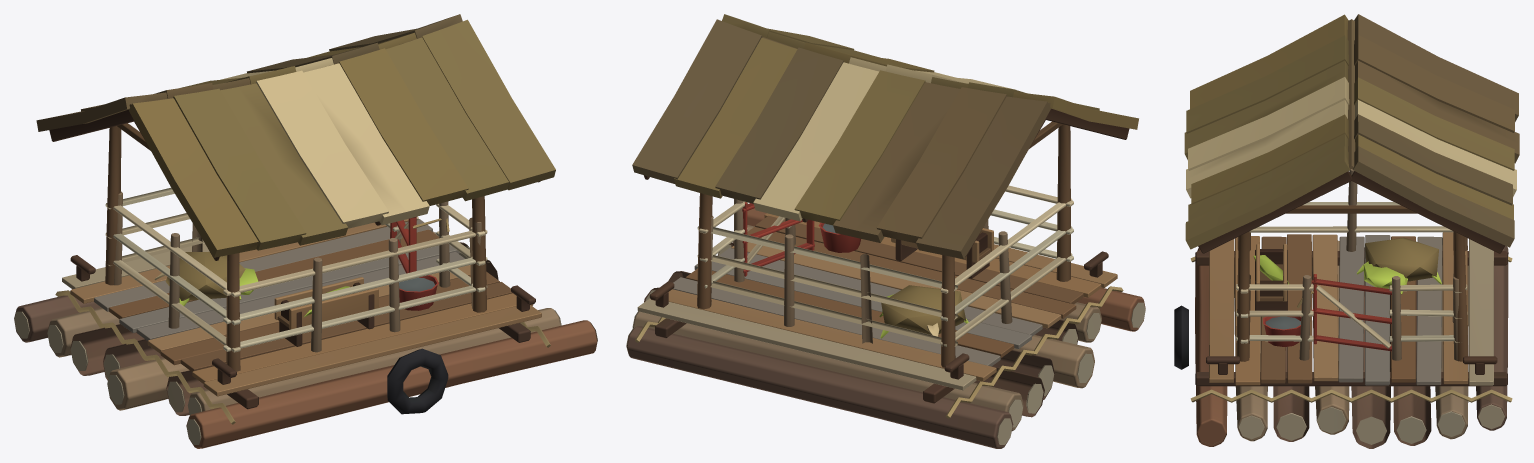
File: float_corral-Dyr8EzdT.glb
The picture shows the model from 3 angles, left to right: view 1: azimuth 30°, elevation 25°; view 2: azimuth 150°, elevation 25°; view 3: azimuth 270°, elevation 25°; orthographic projection. The views are drawn at different scales.
Parts seen in each view (by area): view 1: float_corral; view 2: float_corral; view 3: float_corral.
Boxes of the visible parts, x1,y1,x2,y2 form: float_corral: (14, 14, 597, 448); float_corral: (626, 14, 1145, 448); float_corral: (1174, 14, 1519, 448).
Bounding box in the file's own units: 6.12 × 4.21 × 4.84.
